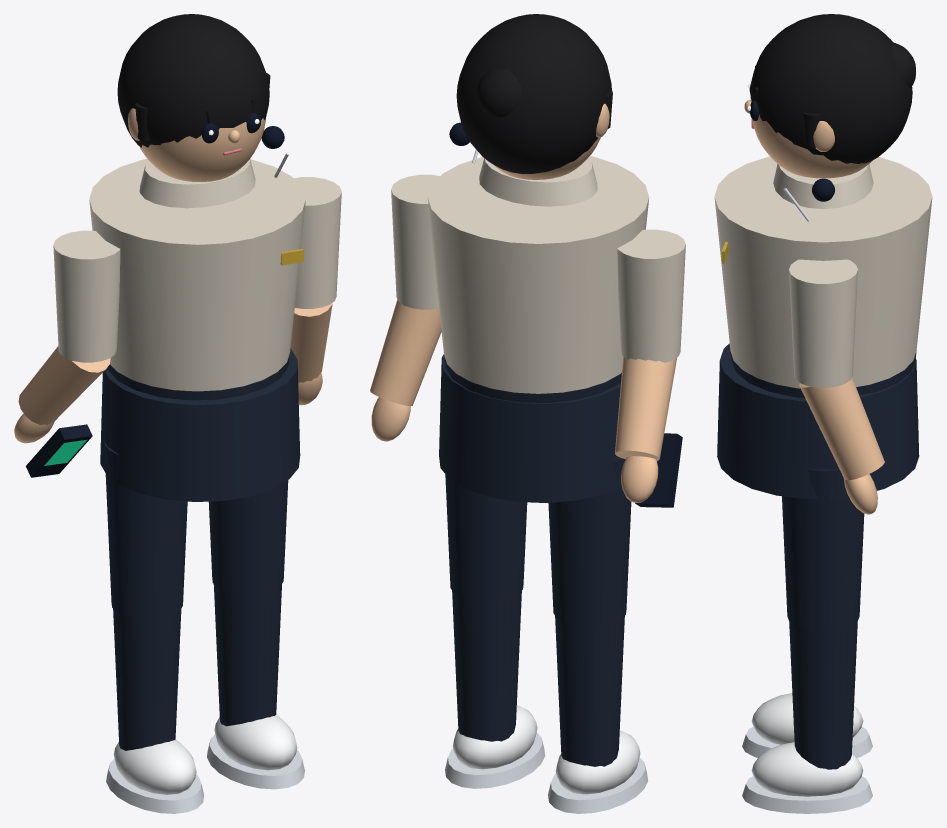
Rendered from ShiftSync_Cashier.glb.
3 renders of one model, left to right at view 1: azimuth 30°, elevation 25°; view 2: azimuth 150°, elevation 25°; view 3: azimuth 270°, elevation 25°, orthographic. The views are drawn at different scales.
Parts seen in each view (by area): view 1: Chest, WaistApron, Hair_Crown, LeftHip, RightKnee, LeftKnee, L_UpperArm, RightHip, RightAnkle, LeftAnkle, R_UpperArm, Head_Cranium (+6 smaller); view 2: Chest, WaistApron, Hair_Crown, LeftHip, LeftKnee, RightKnee, L_UpperArm, RightHip, R_UpperArm, L_Forearm, RightAnkle, LeftAnkle (+8 smaller); view 3: Chest, Hair_Crown, WaistApron, RightHip, RightKnee, R_UpperArm, RightAnkle, R_Forearm, LeftAnkle, Head_Cranium, Shirt_Collar, Pelvis (+5 smaller).
Boxes of the visible parts, bbox=[...] form: Chest: bbox=[89, 159, 305, 391]; WaistApron: bbox=[100, 348, 300, 501]; Hair_Crown: bbox=[117, 14, 269, 147]; LeftHip: bbox=[104, 441, 187, 619]; RightKnee: bbox=[213, 584, 281, 726]; LeftKnee: bbox=[113, 609, 181, 750]; L_UpperArm: bbox=[53, 230, 120, 362]; RightHip: bbox=[208, 480, 288, 594]; RightAnkle: bbox=[207, 715, 304, 789]; LeftAnkle: bbox=[106, 739, 204, 813]; R_UpperArm: bbox=[294, 177, 341, 308]; Head_Cranium: bbox=[139, 118, 265, 181]; Chest: bbox=[427, 156, 649, 393]; WaistApron: bbox=[439, 354, 621, 502]; Hair_Crown: bbox=[456, 14, 611, 173]; LeftHip: bbox=[548, 457, 631, 626]; LeftKnee: bbox=[555, 616, 624, 766]; RightKnee: bbox=[452, 591, 521, 741]; L_UpperArm: bbox=[617, 229, 685, 362]; RightHip: bbox=[445, 474, 527, 601]; R_UpperArm: bbox=[391, 174, 439, 309]; L_Forearm: bbox=[615, 357, 677, 460]; RightAnkle: bbox=[445, 705, 545, 788]; LeftAnkle: bbox=[548, 730, 647, 813]; Chest: bbox=[714, 156, 932, 388]; Hair_Crown: bbox=[750, 14, 912, 163]; WaistApron: bbox=[717, 343, 919, 498]; RightHip: bbox=[782, 469, 864, 631]; RightKnee: bbox=[789, 621, 857, 769]; R_UpperArm: bbox=[789, 259, 857, 387]; RightAnkle: bbox=[742, 742, 872, 813]; R_Forearm: bbox=[799, 377, 884, 480]; LeftAnkle: bbox=[742, 693, 872, 757]; Head_Cranium: bbox=[750, 98, 872, 178]; Shirt_Collar: bbox=[773, 164, 873, 208]; Pelvis: bbox=[730, 352, 916, 397].
Size of the model in its own units: 0.6376 by 1.56 by 0.41.
